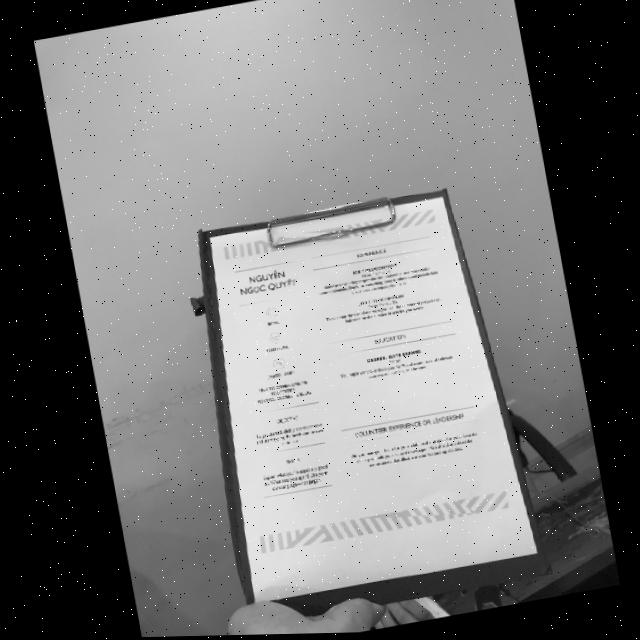document: (210, 197, 538, 603)
